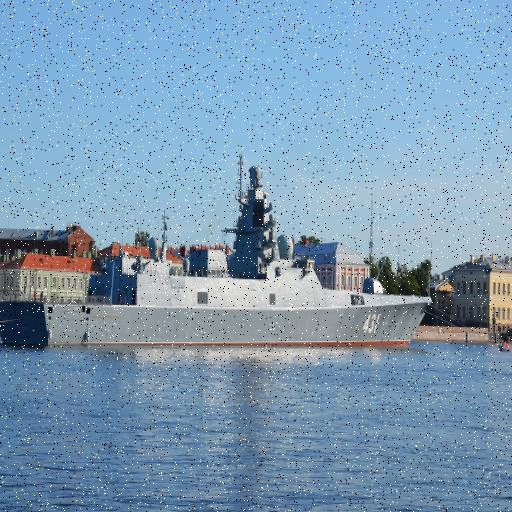Fragata: (1, 155, 438, 354)
